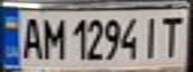1: (66, 15, 87, 61)
2: (84, 15, 106, 62)
4: (121, 14, 142, 61)
9: (103, 15, 124, 61)
A: (18, 13, 45, 60)
I: (139, 12, 163, 60)
M: (39, 14, 66, 61)
T: (157, 12, 187, 59)
